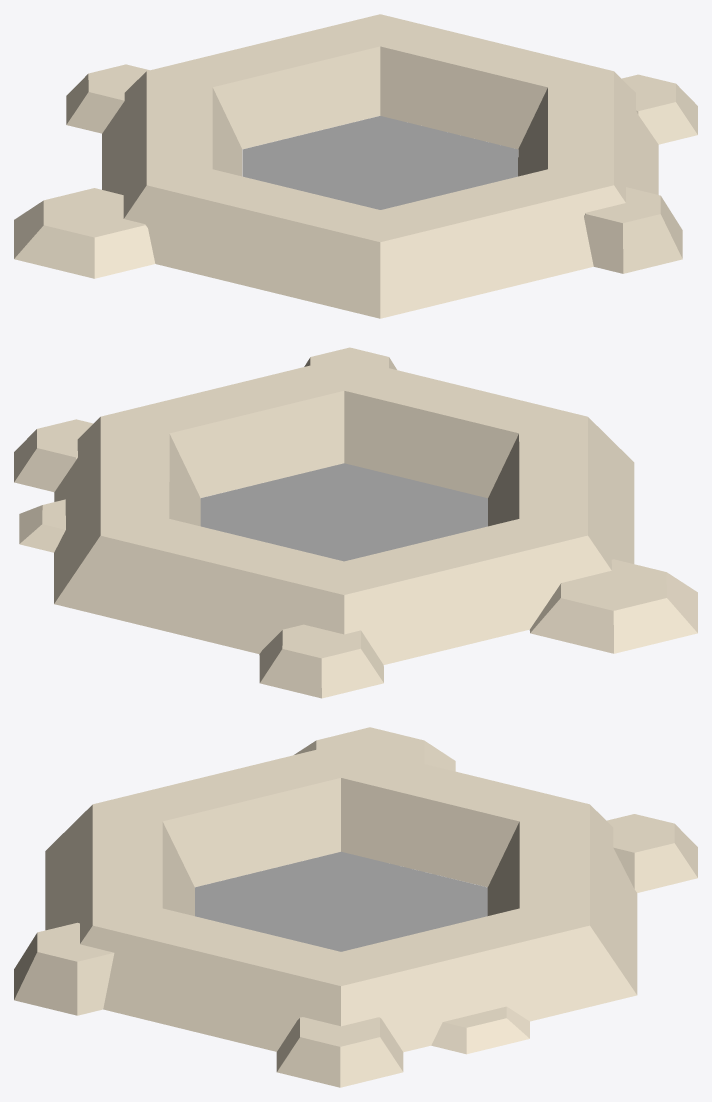
3 views of the same model, one above another, from view 1: azimuth 30°, elevation 25°; view 2: azimuth 150°, elevation 25°; view 3: azimuth 270°, elevation 25° (orthographic). The views are drawn at different scales.
Visible parts, largest first — view 1: hole; view 2: hole; view 3: hole.
Part boxes in pixels (x1,y1,x2,y2): hole: (14, 14, 697, 318); hole: (14, 347, 697, 698); hole: (14, 727, 697, 1087).
Bounding box in the file's own units: 1.02 × 0.08 × 0.851.
